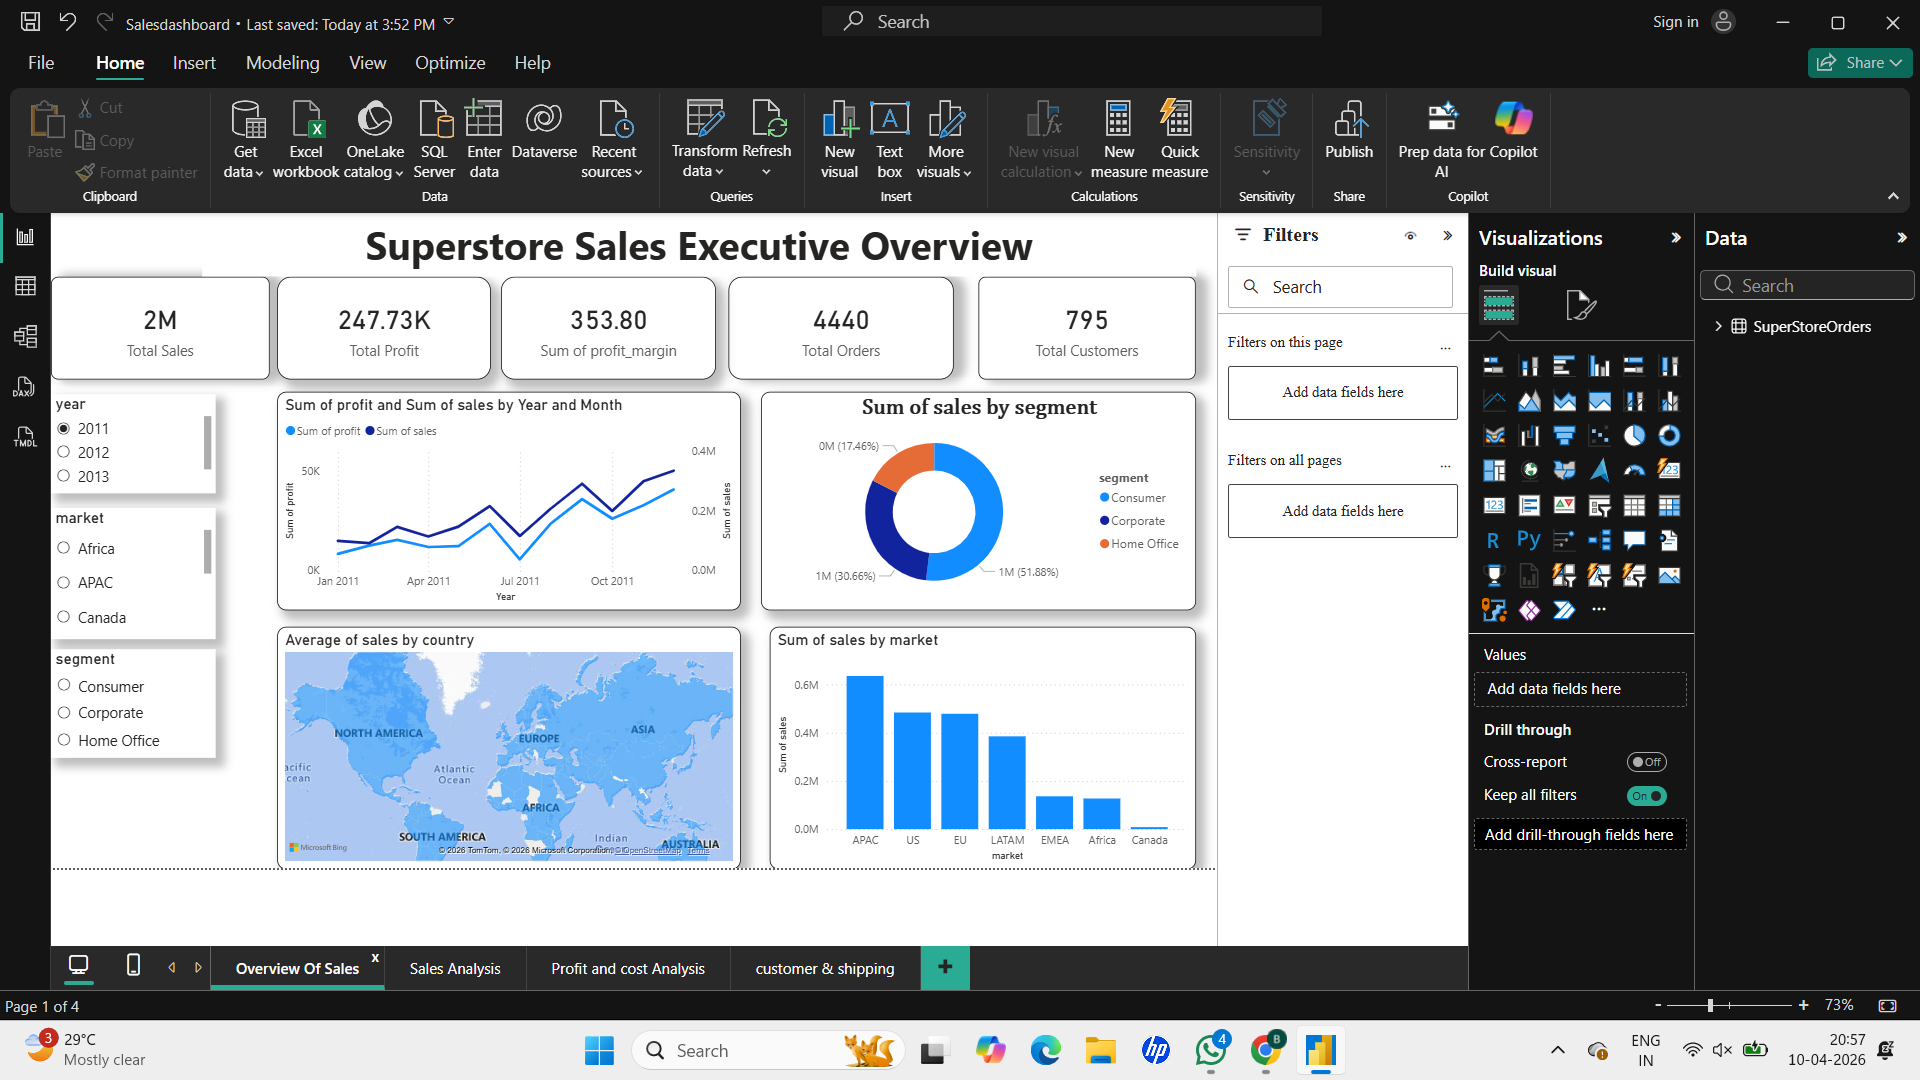

The page's visual inventory and layout, read from the dashboard file:
{"tool":"powerbi","page":{"name":"Overview Of Sales","canvas":[1280,720],"ordinal":0},"visuals":[{"type":"card","fields":{"Values":["Sum(SuperStoreOrders.sales)"]},"box":[0,70,240.1,112.5],"z":0},{"type":"card","fields":{"Values":["Sum(SuperStoreOrders.profit)"]},"box":[248.4,70,234.6,112.5],"z":1000},{"type":"card","fields":{"Values":["SuperStoreOrders.Total Orders"]},"box":[743.7,70,247,112.5],"z":2000},{"type":"card","fields":{"Values":["SuperStoreOrders.Total Customers"]},"box":[1018.2,70,238.8,112.5],"z":3000},{"type":"card","fields":{"Values":["Sum(SuperStoreOrders.profit_margin)"]},"box":[494,70,236,112.5],"z":4000},{"type":"lineChart","fields":{"Y":["Sum(SuperStoreOrders.profit)"],"Y2":["Sum(SuperStoreOrders.sales)"],"Category":["SuperStoreOrders.order_date.Variation.Date Hierarchy.Year","SuperStoreOrders.order_date.Variation.Date Hierarchy.Month"]},"box":[248.4,196.2,509.1,240.1],"z":5000},{"type":"clusteredColumnChart","fields":{"Category":["SuperStoreOrders.market"],"Y":["Sum(SuperStoreOrders.sales)"]},"box":[789,454.2,467.9,266.2],"z":6000},{"type":"listSlicer","fields":{"Values":["SuperStoreOrders.year"]},"box":[0,199,181.1,108.4],"z":7000},{"type":"listSlicer","fields":{"Values":["SuperStoreOrders.market"]},"box":[0,323.8,181.1,144.1],"z":8000},{"type":"listSlicer","fields":{"Values":["SuperStoreOrders.segment"]},"box":[0,478.9,181.1,119.4],"z":9000},{"type":"donutChart","fields":{"Category":["SuperStoreOrders.segment"],"Y":["Sum(SuperStoreOrders.sales)"]},"box":[779.4,196.2,477.5,240.1],"z":10000},{"type":"filledMap","fields":{"X":["Avg(SuperStoreOrders.sales)"],"Category":["SuperStoreOrders.country"]},"box":[248.4,454.2,509.1,266.2],"z":11000},{"type":"textbox","box":[166,0,1090.9,70],"z":12000}]}

Visuals, with their boxes on the page's 1280x720 design canvas (x1, y1, x2, y2). These are canvas units, not pixel positions in the 1920x1080 screenshot, which may show the page scaled, cropped or inside an application window:
card - Sum(SuperStoreOrders.sales): bbox=[0, 70, 240, 182]
card - Sum(SuperStoreOrders.profit): bbox=[248, 70, 483, 182]
card - SuperStoreOrders.Total Orders: bbox=[744, 70, 991, 182]
card - SuperStoreOrders.Total Customers: bbox=[1018, 70, 1257, 182]
card - Sum(SuperStoreOrders.profit_margin): bbox=[494, 70, 730, 182]
lineChart - Sum(SuperStoreOrders.profit) x Sum(SuperStoreOrders.sales): bbox=[248, 196, 758, 436]
clusteredColumnChart - SuperStoreOrders.market x Sum(SuperStoreOrders.sales): bbox=[789, 454, 1257, 720]
listSlicer - SuperStoreOrders.year: bbox=[0, 199, 181, 307]
listSlicer - SuperStoreOrders.market: bbox=[0, 324, 181, 468]
listSlicer - SuperStoreOrders.segment: bbox=[0, 479, 181, 598]
donutChart - SuperStoreOrders.segment x Sum(SuperStoreOrders.sales): bbox=[779, 196, 1257, 436]
filledMap - Avg(SuperStoreOrders.sales) x SuperStoreOrders.country: bbox=[248, 454, 758, 720]
textbox: bbox=[166, 0, 1257, 70]
